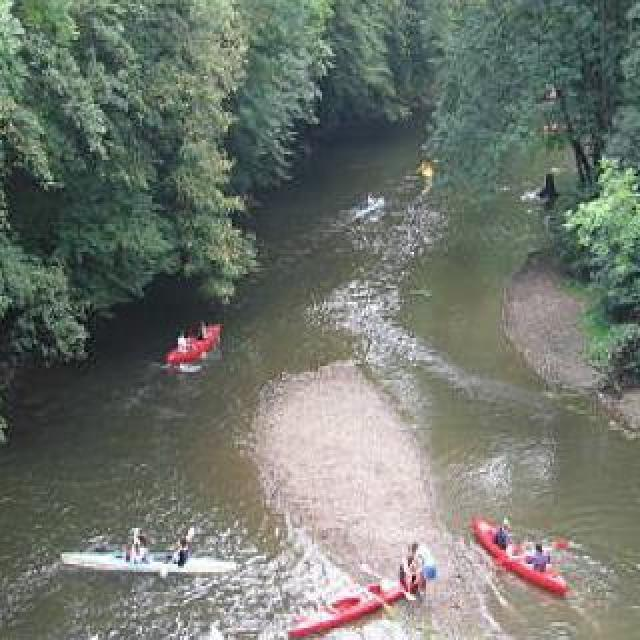kayak: (471, 519, 567, 595), (287, 578, 410, 637), (61, 547, 236, 575), (165, 324, 218, 363)
